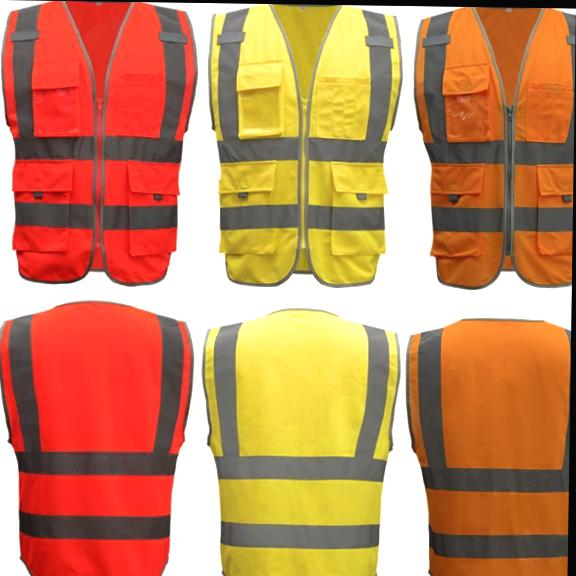safety_vest: (0, 0, 201, 287), (206, 3, 404, 290), (198, 309, 403, 576), (0, 298, 195, 576), (412, 6, 576, 290), (402, 314, 571, 576)
